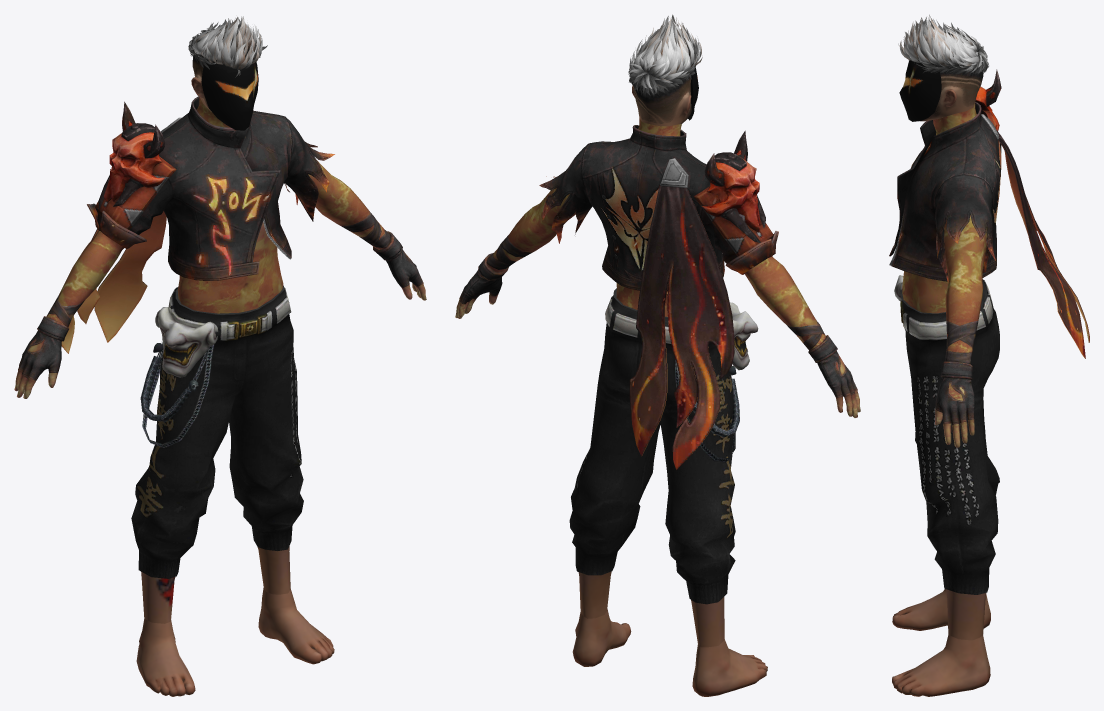
The model's file is maskbare.fbx.
3 views of the same model, side by side, from view 1: azimuth 30°, elevation 25°; view 2: azimuth 150°, elevation 25°; view 3: azimuth 270°, elevation 25° (orthographic).
Parts seen in each view (by area): view 1: Object_5, Object_4, Object_3, Object_2, Object_6, Object_7; view 2: Object_5, Object_4, Object_2, Object_3, Object_7; view 3: Object_5, Object_4, Object_2, Object_3, Object_7, Object_6.
Part boxes in pixels (x1,y1,x2,y2): Object_5: [18, 96, 423, 380]; Object_4: [131, 285, 303, 578]; Object_3: [14, 97, 426, 398]; Object_2: [136, 42, 334, 696]; Object_6: [201, 42, 258, 130]; Object_7: [188, 16, 267, 77]; Object_5: [459, 125, 857, 469]; Object_4: [569, 288, 758, 604]; Object_2: [572, 77, 767, 696]; Object_3: [455, 118, 860, 417]; Object_7: [628, 14, 702, 97]; Object_5: [889, 69, 1089, 424]; Object_4: [894, 275, 999, 594]; Object_2: [892, 63, 990, 696]; Object_3: [902, 103, 987, 447]; Object_7: [898, 14, 988, 75]; Object_6: [899, 60, 941, 121].
Size of the model in its own units: 906 by 1400 by 396.
Materials: 6 (6 with a texture image).
